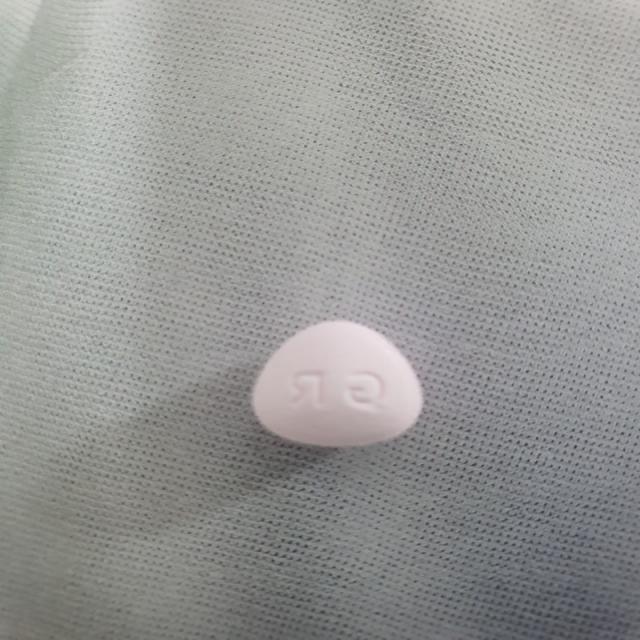pill: (244, 311, 433, 452)
